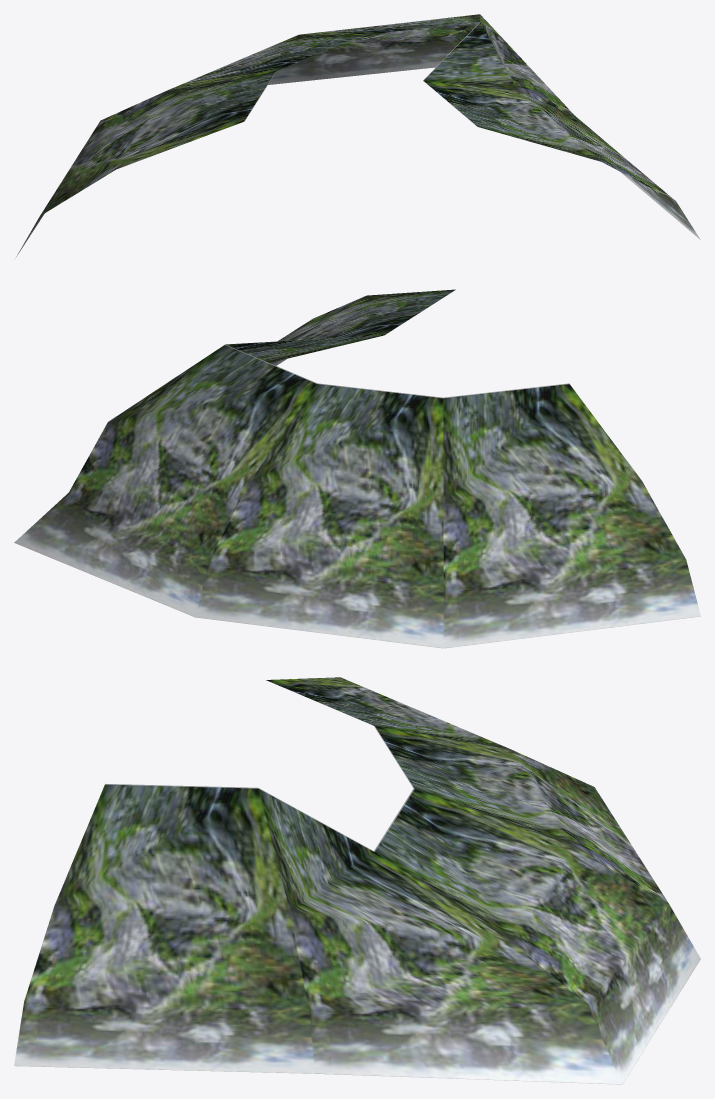
File: nder107.obj
3 renders of one model, top to bottom at view 1: azimuth 30°, elevation 25°; view 2: azimuth 150°, elevation 25°; view 3: azimuth 270°, elevation 25°, orthographic. The views are drawn at different scales.
Parts seen in each view (by area): view 1: nder107; view 2: nder107; view 3: nder107.
Boxes of the visible parts, x1,y1,x2,y2 form: nder107: (16, 14, 700, 256); nder107: (14, 289, 700, 648); nder107: (14, 677, 700, 1084).
Bounding box in the file's own units: 1640 × 391 × 1398.
